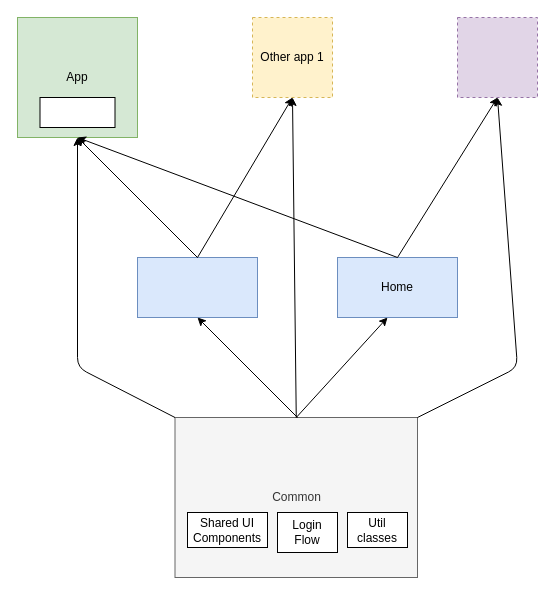
Some shapes in this 555 by 595 pixel diagram are drawn without their labels. The shapes that lost their labels are listed below. From the top down, each one's centre as x and y in pixels, then its label:
At point 497,57: "Other app 2".
At point 77,112: "App specific code".
At point 197,287: "Account".
